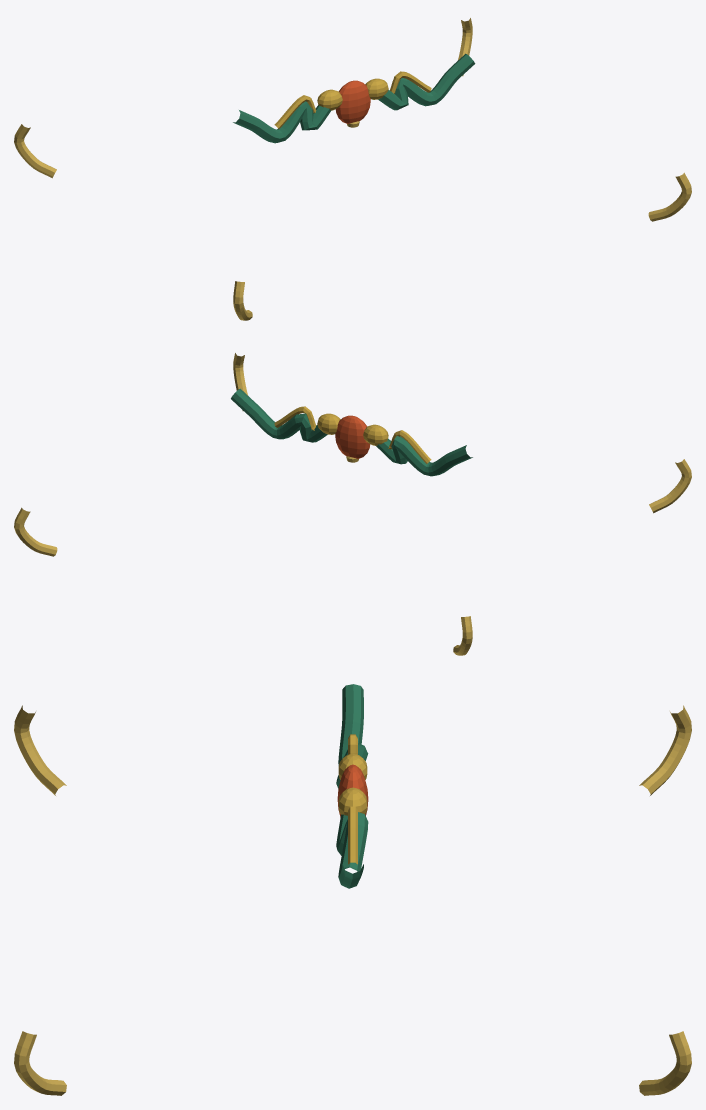
File: gate-cuahuu-hero.glb
3 renders of one model, top to bottom at view 1: azimuth 30°, elevation 25°; view 2: azimuth 150°, elevation 25°; view 3: azimuth 270°, elevation 25°, orthographic. The views are drawn at different scales.
Visible parts, largest first — view 1: gate_cuahuu_hero; view 2: gate_cuahuu_hero; view 3: gate_cuahuu_hero.
Boxes of the visible parts, x1,y1,x2,y2 form: gate_cuahuu_hero: (14, 18, 691, 320); gate_cuahuu_hero: (14, 353, 691, 655); gate_cuahuu_hero: (14, 684, 691, 1095).
Bounding box in the file's own units: 5.33 × 1.31 × 4.53.
